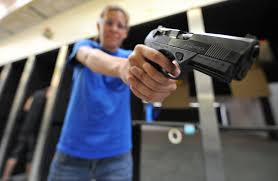Gun: (143, 22, 254, 73)
